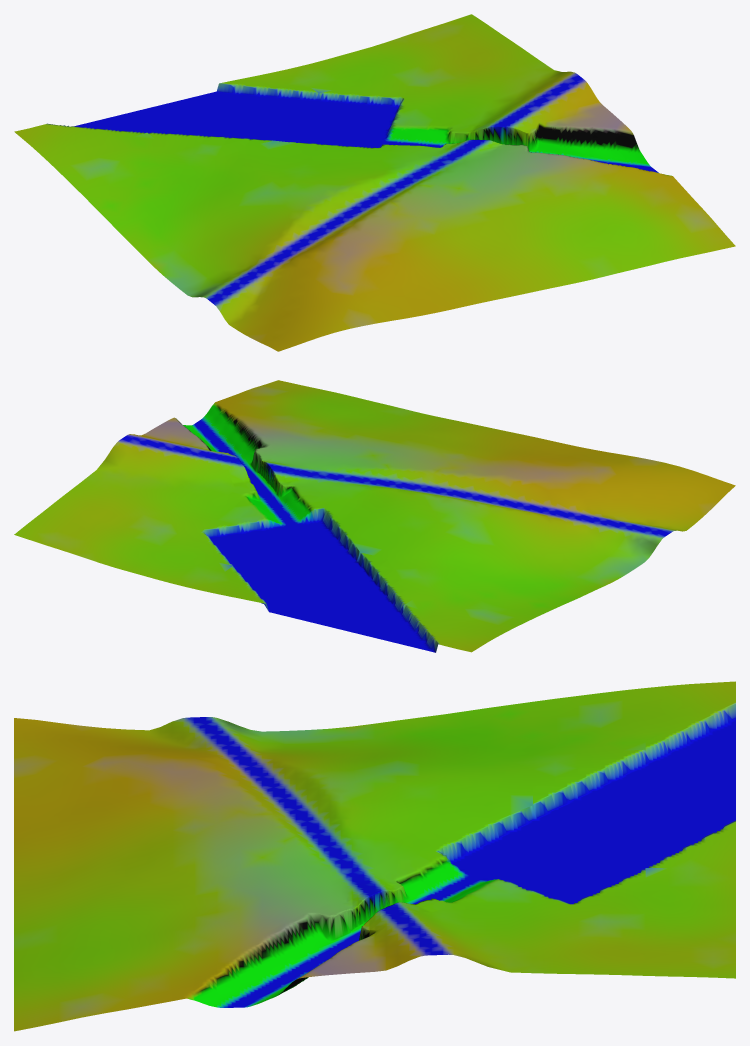
Rendered from SM_BM_BT_Terrain_5_2.glb.
The picture shows the model from 3 angles, top to bottom: view 1: azimuth 30°, elevation 25°; view 2: azimuth 150°, elevation 25°; view 3: azimuth 270°, elevation 25°; orthographic projection. The views are drawn at different scales.
Parts seen in each view (by area): view 1: SM_BM_BT_Terrain_5_2; view 2: SM_BM_BT_Terrain_5_2; view 3: SM_BM_BT_Terrain_5_2.
Part boxes in pixels (x1,y1,x2,y2): SM_BM_BT_Terrain_5_2: [14, 14, 735, 351]; SM_BM_BT_Terrain_5_2: [14, 380, 735, 652]; SM_BM_BT_Terrain_5_2: [14, 681, 735, 1031].
Bounding box in the file's own units: 256 × 32.05 × 256.
